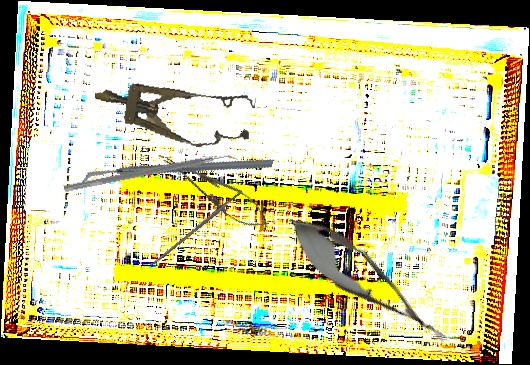Chopper: (79, 99, 275, 245)
Micro Scissor: (274, 201, 461, 360)
Needle Holder: (157, 145, 276, 238)
Scalpel Handle: (149, 189, 245, 268)
Spatula Surgical: (63, 148, 239, 200)
Speculum: (89, 64, 257, 157)
